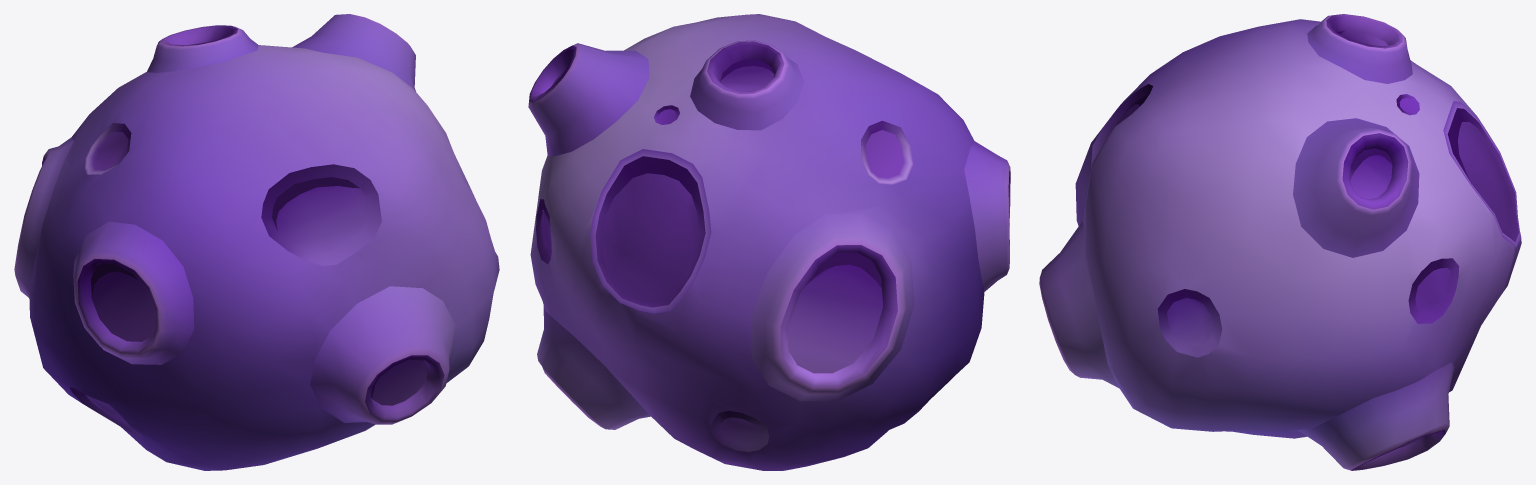
Rendered from SM_Asteroid_01.fbx.
The picture shows the model from 3 angles, left to right: view 1: azimuth 30°, elevation 25°; view 2: azimuth 150°, elevation 25°; view 3: azimuth 270°, elevation 25°; orthographic projection. The views are drawn at different scales.
Visible parts, largest first — view 1: SM_Asteroid_01; view 2: SM_Asteroid_01; view 3: SM_Asteroid_01.
Boxes of the visible parts, <box> form: SM_Asteroid_01: <box>14,14,499,470</box>; SM_Asteroid_01: <box>528,14,1010,470</box>; SM_Asteroid_01: <box>1039,14,1521,470</box>.
Bounding box in the file's own units: 6.71 × 6.31 × 6.7.
